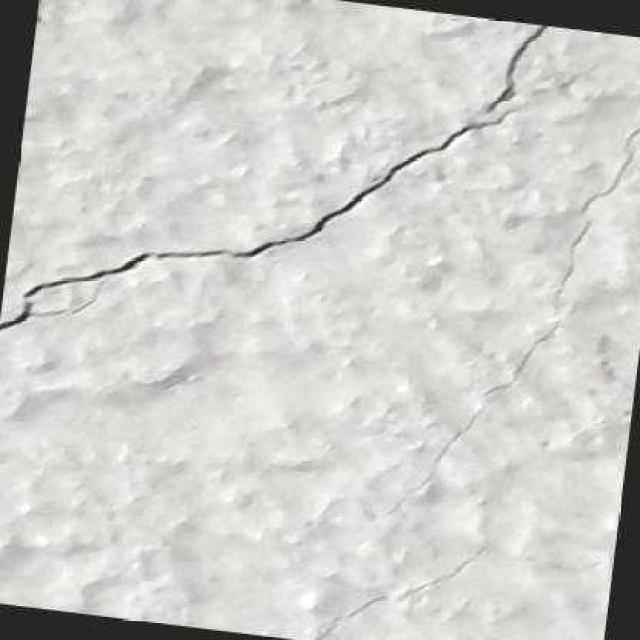D00: (0, 106, 520, 330), (481, 25, 548, 112)
